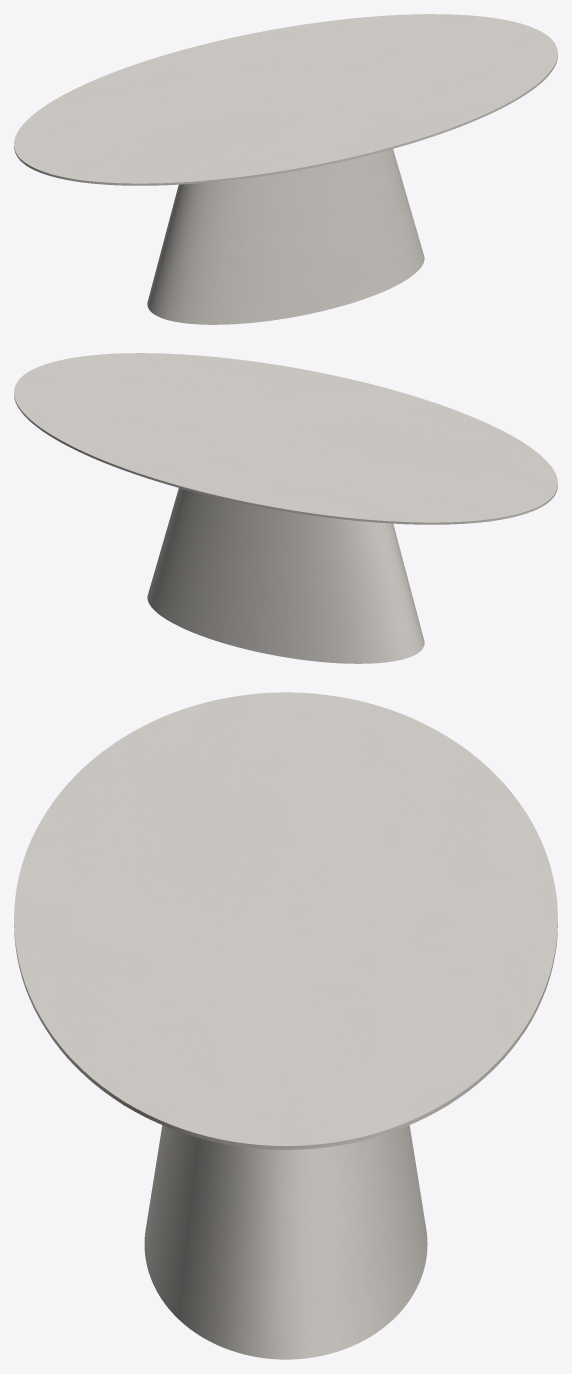
The model's file is pearlwhite_ellips_facet_eqone.glb.
3 renders of one model, top to bottom at view 1: azimuth 30°, elevation 25°; view 2: azimuth 150°, elevation 25°; view 3: azimuth 270°, elevation 25°, orthographic. The views are drawn at different scales.
Visible parts, largest first — view 1: facet_ellips, eqone; view 2: facet_ellips, eqone; view 3: facet_ellips, eqone.
Part boxes in pixels (<box>): facet_ellips: <box>14,14,557,185</box>; eqone: <box>147,149,424,324</box>; facet_ellips: <box>14,353,557,524</box>; eqone: <box>147,488,424,663</box>; facet_ellips: <box>14,692,557,1149</box>; eqone: <box>144,1125,427,1359</box>.
Size of the model in its own units: 7.5 by 2.51 by 3.8.
Materials: 1 (1 with a texture image).
